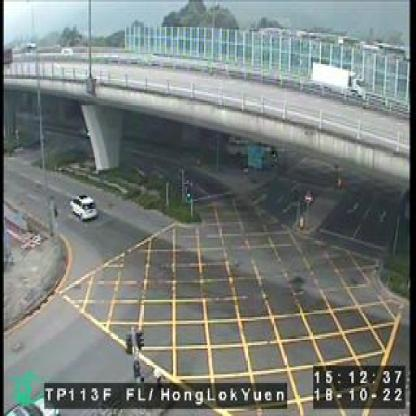Car: (68, 192, 98, 222)
